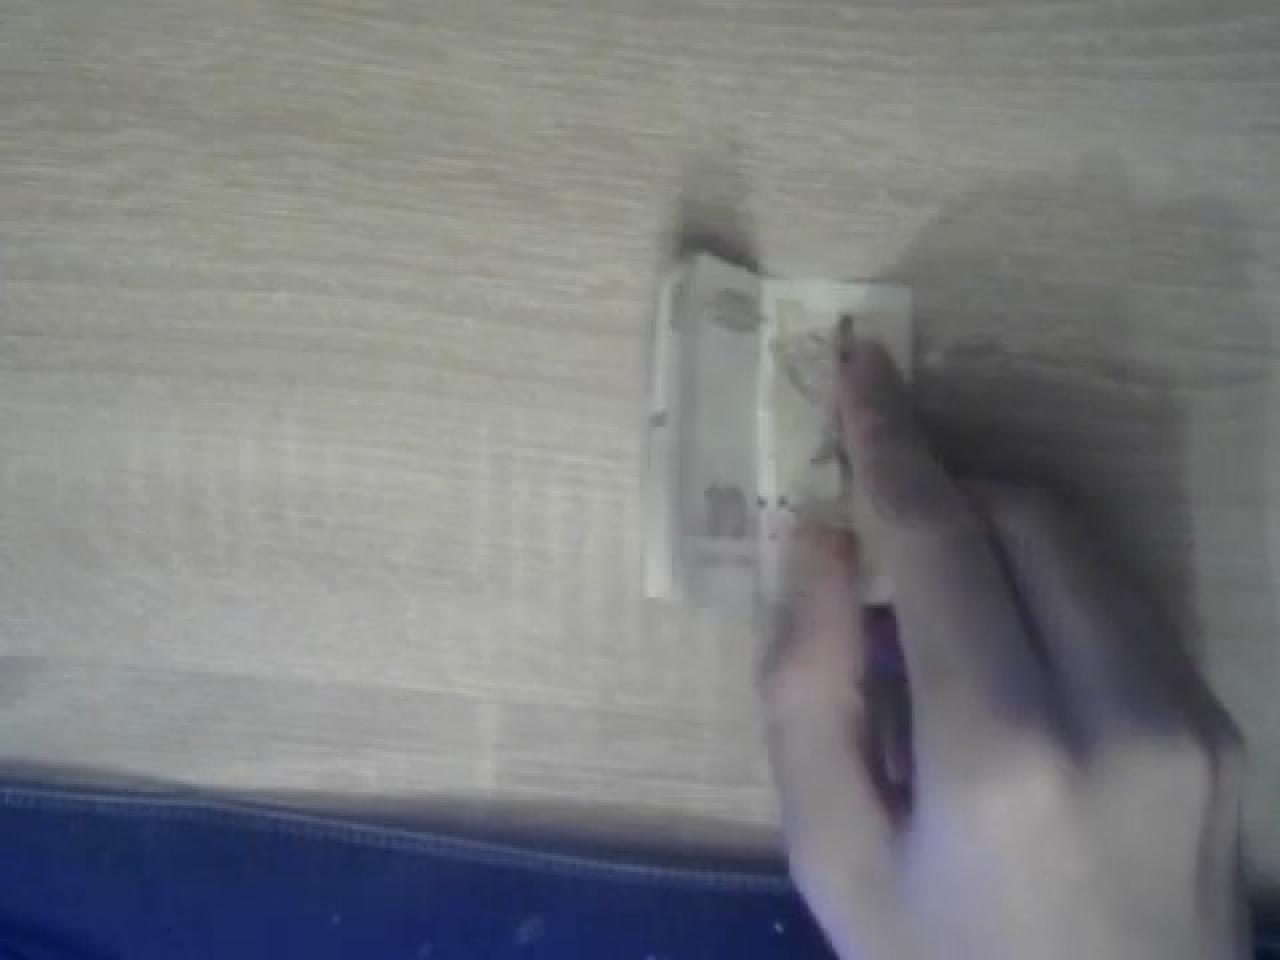10leva: (637, 245, 920, 627)
